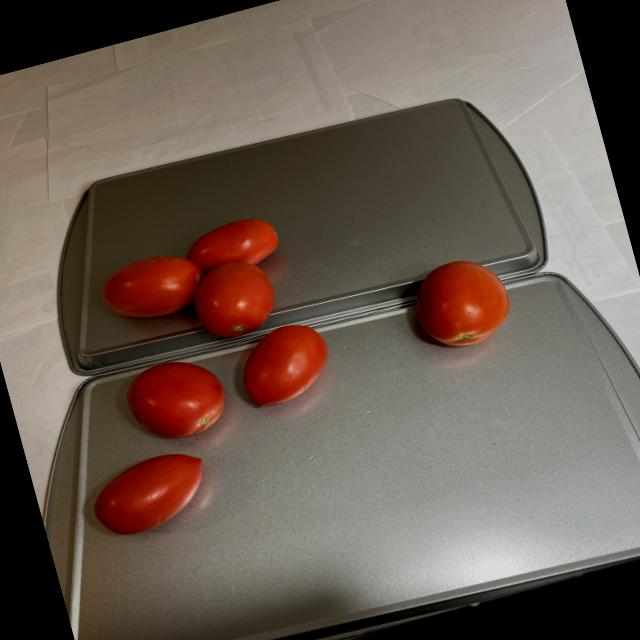tomato: (23, 207, 356, 556), (400, 246, 520, 360)
